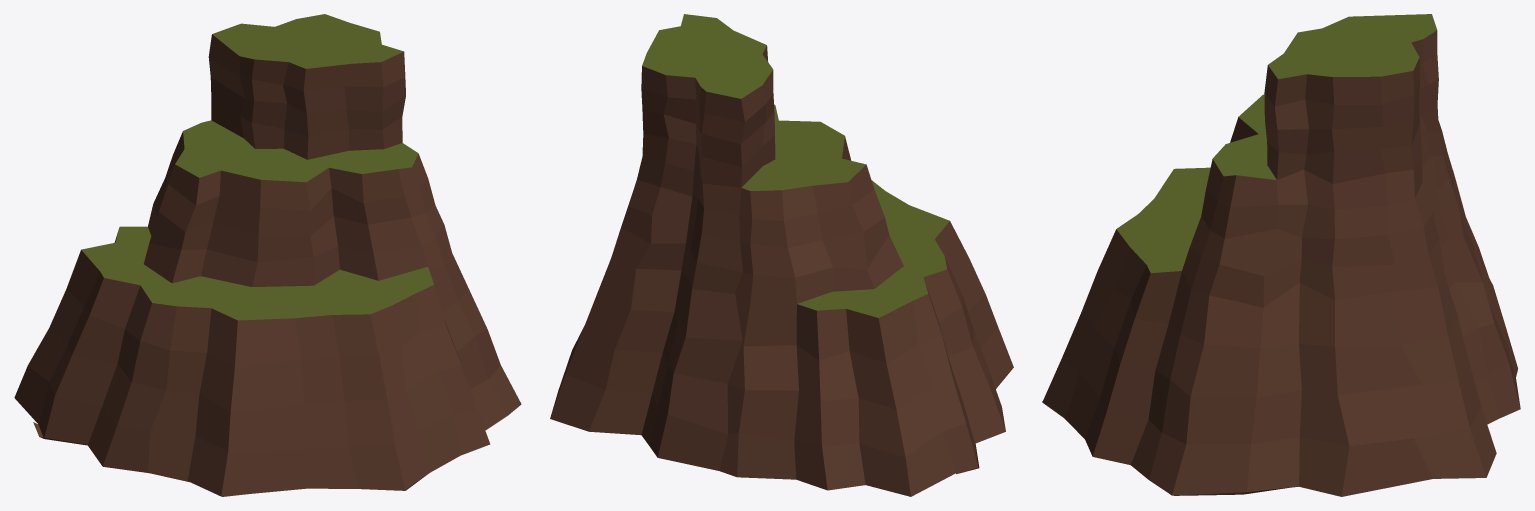
The model's file is mountain.glb.
3 renders of one model, left to right at view 1: azimuth 30°, elevation 25°; view 2: azimuth 150°, elevation 25°; view 3: azimuth 270°, elevation 25°, orthographic. The views are drawn at different scales.
Parts seen in each view (by area): view 1: Plane; view 2: Plane; view 3: Plane.
Boxes of the visible parts, box(x1,y1,x2,y2) form: Plane: box(14, 14, 521, 496); Plane: box(550, 14, 1013, 496); Plane: box(1042, 14, 1520, 496).
Bounding box in the file's own units: 9.36 × 7.59 × 8.62.
